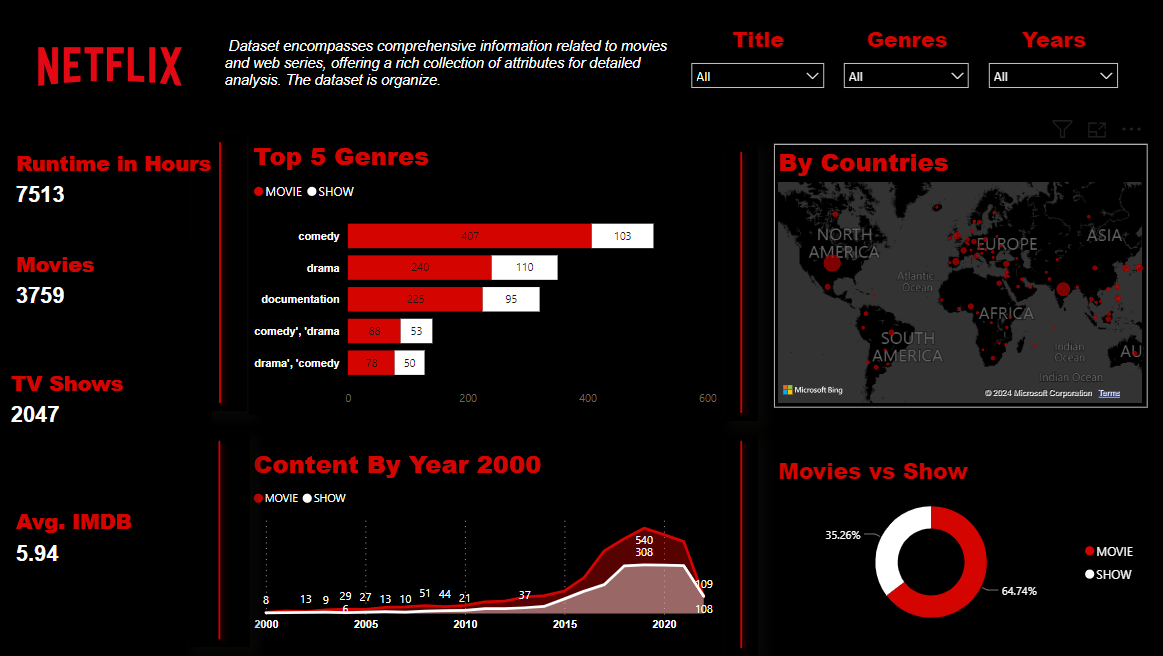

What the dashboard file says about the page in this screenshot:
{"tool":"powerbi","page":{"name":"Page 1","canvas":[1280,720],"ordinal":0},"visuals":[{"type":"multiRowCard","title":"Runtime in Hours","fields":{"Values":["Measurments.Runtime Hours"]},"box":[12.3,157.8,229.2,90.6],"z":0},{"type":"shape","box":[211.3,146.8,60.4,304.6],"z":1000},{"type":"image","box":[0,0,241.5,146.8],"z":2000},{"type":"barChart","title":"Top 5 Genres","fields":{"Category":["titles.genres"],"Y":["Measurments.Total Content"],"Series":["titles.type"]},"box":[273.1,146.8,518.7,308.7],"z":3000},{"type":"areaChart","title":"Content By Year 2000","fields":{"Category":["titles.release_year"],"Y":["Measurments.Total Content"],"Series":["titles.type"]},"box":[273.1,484.4,518.7,216.8],"z":4000},{"type":"shape","box":[207.2,474.8,67.2,236],"z":5000},{"type":"map","title":"By Countries","fields":{"Category":["titles.production_countries"],"Size":["Measurments.Runtime Hours"]},"box":[849.4,157.8,410.3,289.5],"z":6000},{"type":"shape","box":[795.9,157.8,35.7,304.6],"z":7000},{"type":"shape","box":[795.9,474.8,35.7,245.6],"z":8000},{"type":"donutChart","title":"Movies vs Show","fields":{"Category":["titles.type"],"Y":["Measurments.Content distribution"]},"box":[849.4,499.5,408.9,201.7],"z":9000},{"type":"textbox","box":[241.5,37,521.4,72.7],"z":10000},{"type":"multiRowCard","title":"Movies","fields":{"Values":["Measurments.Count of Movies"]},"box":[12.3,269,226.4,149.6],"z":11000},{"type":"multiRowCard","title":"TV Shows","fields":{"Values":["Measurments.Count of TV Shows"]},"box":[6.9,399.3,226.4,149.6],"z":12000},{"type":"multiRowCard","title":"Avg. IMDB","fields":{"Values":["Measurments.avg imbd"]},"box":[12.3,551.6,226.4,149.6],"z":13000},{"type":"slicer","title":"Title","fields":{"Values":["titles.title"]},"box":[747.9,26.1,167.4,74.1],"z":14000},{"type":"slicer","title":"Genres","fields":{"Values":["titles.genres"]},"box":[915.3,26.1,159.2,74.1],"z":15000},{"type":"slicer","title":"Years","fields":{"Values":["titles.release_year"]},"box":[1074.4,26.1,163.3,74.1],"z":16000}]}

Visuals, with their boxes in screenshot pixels (x1, y1, x2, y2), scaled from the page's 1280x720 canvas onto the 1163x656 screenshot:
"Runtime in Hours" multiRowCard: crop(11, 144, 219, 226)
shape: crop(192, 134, 247, 411)
image: crop(0, 0, 219, 134)
"Top 5 Genres" barChart: crop(248, 134, 719, 415)
"Content By Year 2000" areaChart: crop(248, 441, 719, 639)
shape: crop(188, 433, 249, 648)
"By Countries" map: crop(772, 144, 1145, 408)
shape: crop(723, 144, 756, 421)
shape: crop(723, 433, 756, 655)
"Movies vs Show" donutChart: crop(772, 455, 1143, 639)
textbox: crop(219, 34, 693, 100)
"Movies" multiRowCard: crop(11, 245, 217, 381)
"TV Shows" multiRowCard: crop(6, 364, 212, 500)
"Avg. IMDB" multiRowCard: crop(11, 503, 217, 639)
"Title" slicer: crop(680, 24, 832, 91)
"Genres" slicer: crop(832, 24, 976, 91)
"Years" slicer: crop(976, 24, 1125, 91)
